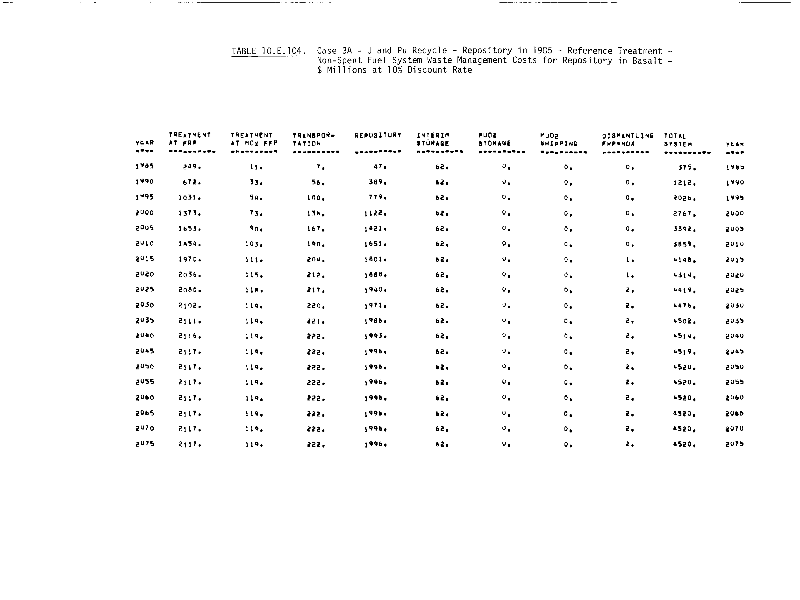table: (128, 118, 753, 464)
